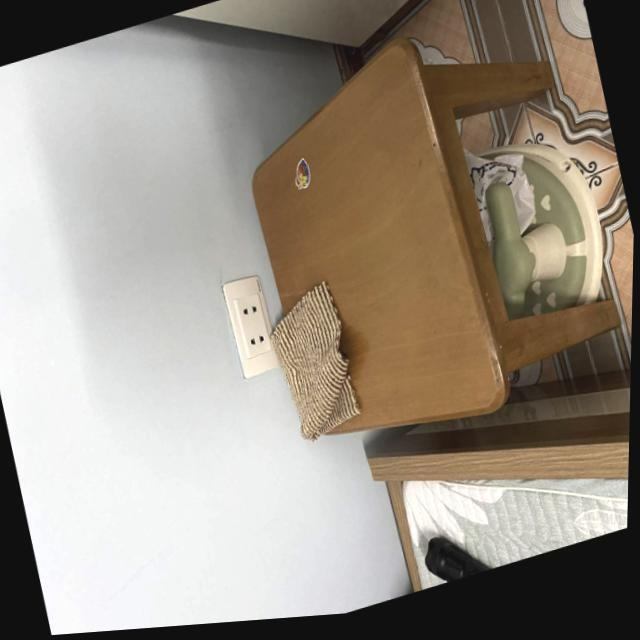outlet: (218, 269, 283, 382)
